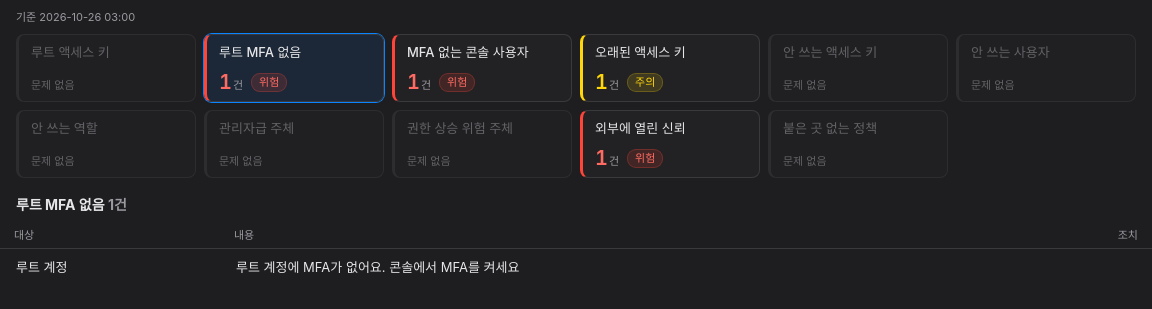
Test case: cards › choosing a card lists its items with target and detail
The image size is (1152, 309).
Click the button "오래된 액세스 키 1건 주의": x=670, y=68 580,34 -> 760,102
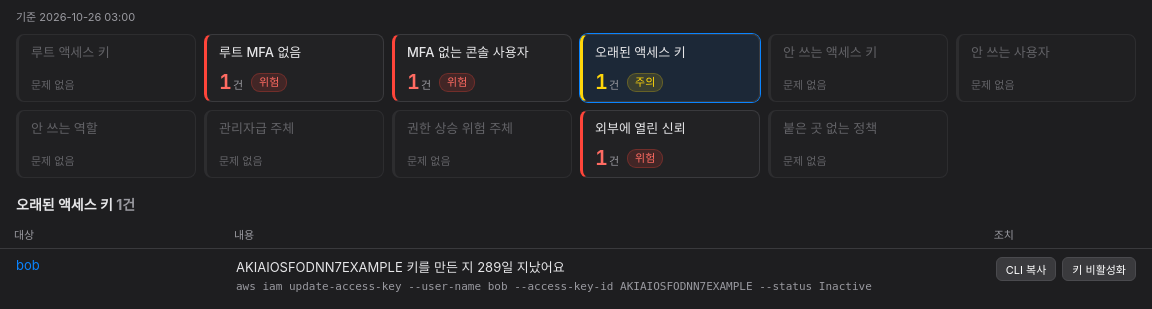
Check: the heading "오래된 액세스 키 1건" is shown, box 16,196 -> 135,213
Check: the row that starts with "bob" is shown, box 16,257 -> 40,273
Check: the row that starts with "bob" shows "AKIAIOSFODNN7EXAMPLE 키를 만든 지 289일 지났어요", box 236,259 -> 565,275
